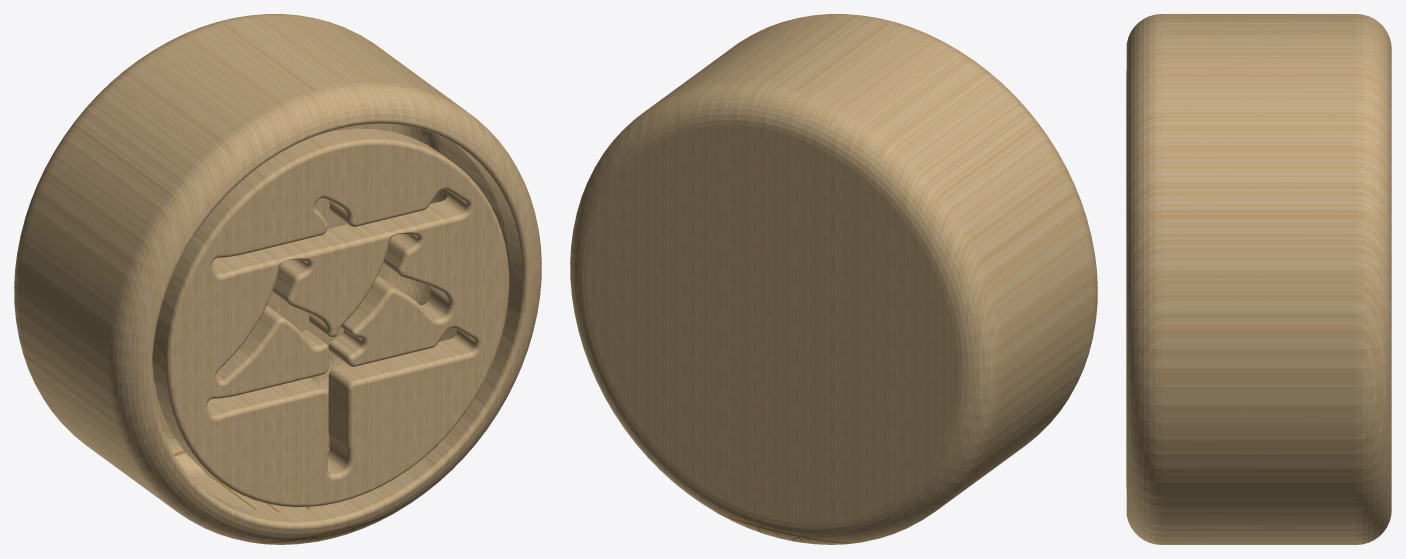
Rendered from h01_chess_black_soldier_wood.obj.
3 renders of one model, left to right at view 1: azimuth 30°, elevation 25°; view 2: azimuth 150°, elevation 25°; view 3: azimuth 270°, elevation 25°, orthographic. The views are drawn at different scales.
Bounding box in the file's own units: 0.03 × 0.03 × 0.015.
1 material, 1 textured.
